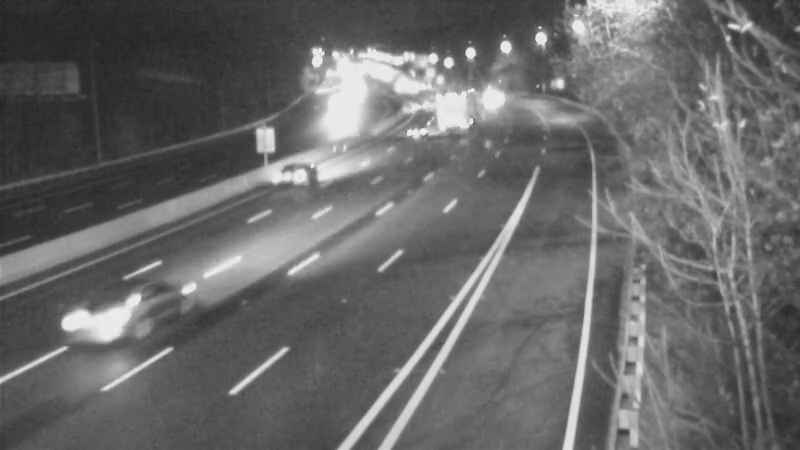vehicle: (46, 264, 156, 374), (247, 138, 327, 218), (468, 72, 518, 122), (431, 82, 481, 132), (395, 104, 445, 154)
